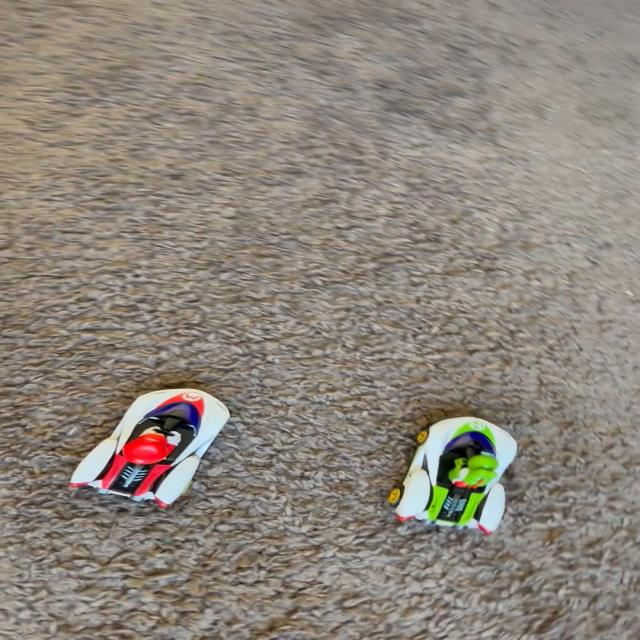mario: (55, 378, 238, 518)
yoshi: (375, 402, 535, 556)
